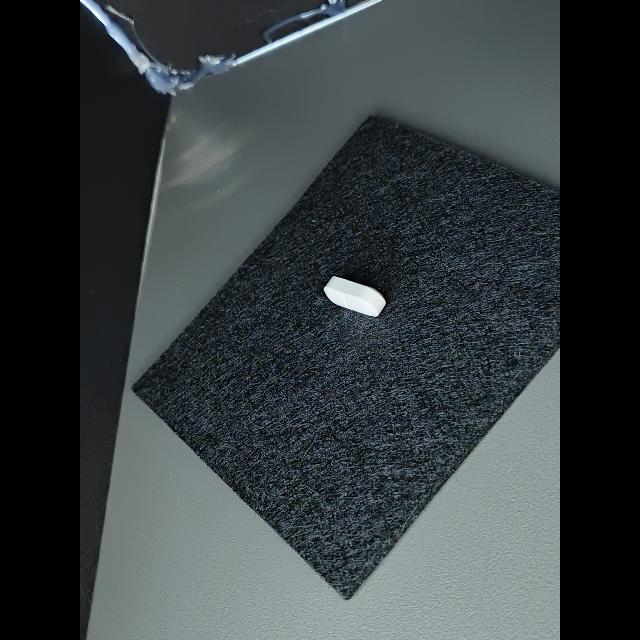Intact Pill: (324, 276, 386, 317)
